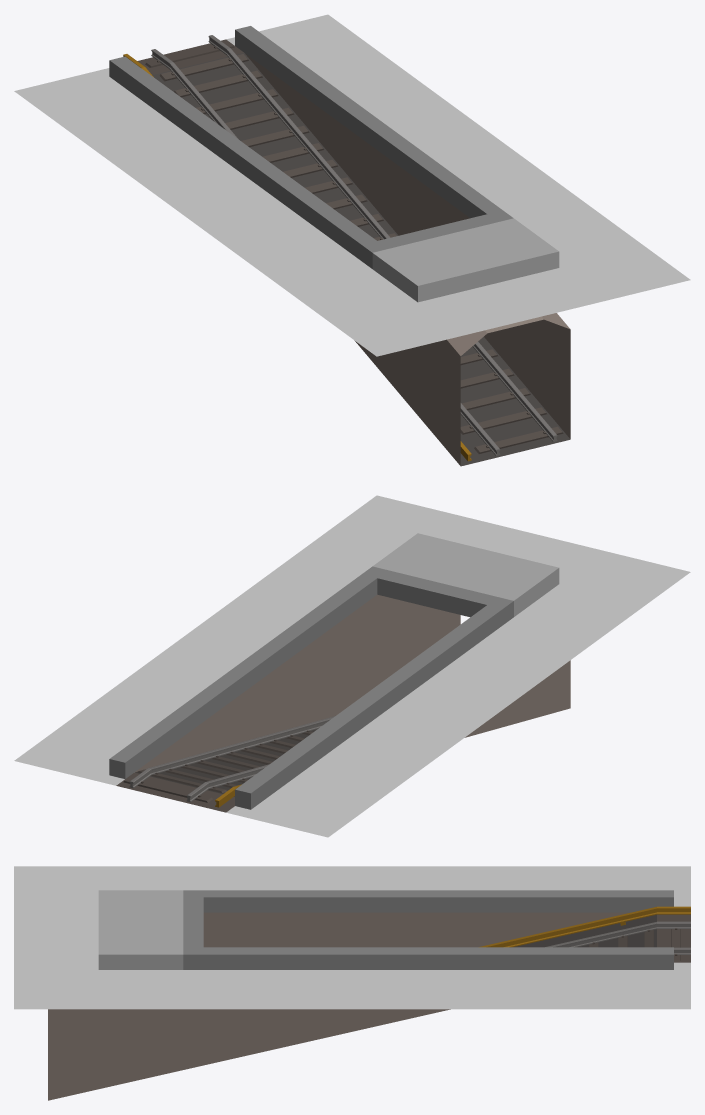
The model's file is SM_Train_Track_Underground_Single_Tunnel_Merger.fbx.
3 views of the same model, one above another, from view 1: azimuth 30°, elevation 25°; view 2: azimuth 150°, elevation 25°; view 3: azimuth 270°, elevation 25° (orthographic). The views are drawn at different scales.
Parts seen in each view (by area): view 1: SM_Train_Track_Underground_Single_Tunnel_Merger; view 2: SM_Train_Track_Underground_Single_Tunnel_Merger; view 3: SM_Train_Track_Underground_Single_Tunnel_Merger.
Boxes of the visible parts, <box> form: SM_Train_Track_Underground_Single_Tunnel_Merger: <box>14,14,690,466</box>; SM_Train_Track_Underground_Single_Tunnel_Merger: <box>14,495,690,837</box>; SM_Train_Track_Underground_Single_Tunnel_Merger: <box>14,866,690,1100</box>.
Bounding box in the file's own units: 1000 × 500 × 2000.
